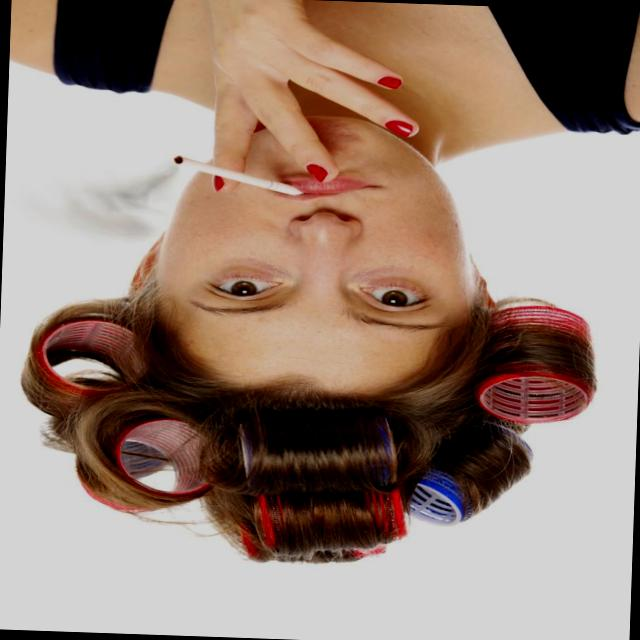smoke: (151, 143, 316, 199)
